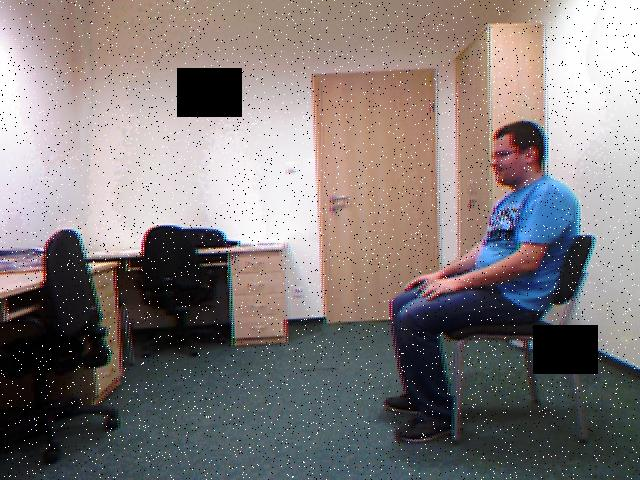sitting: (385, 121, 579, 443)
